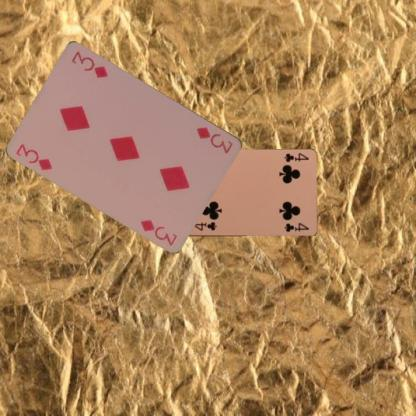3d: (14, 140, 54, 172), (194, 124, 235, 154)
4c: (281, 151, 310, 163), (190, 220, 217, 232)
